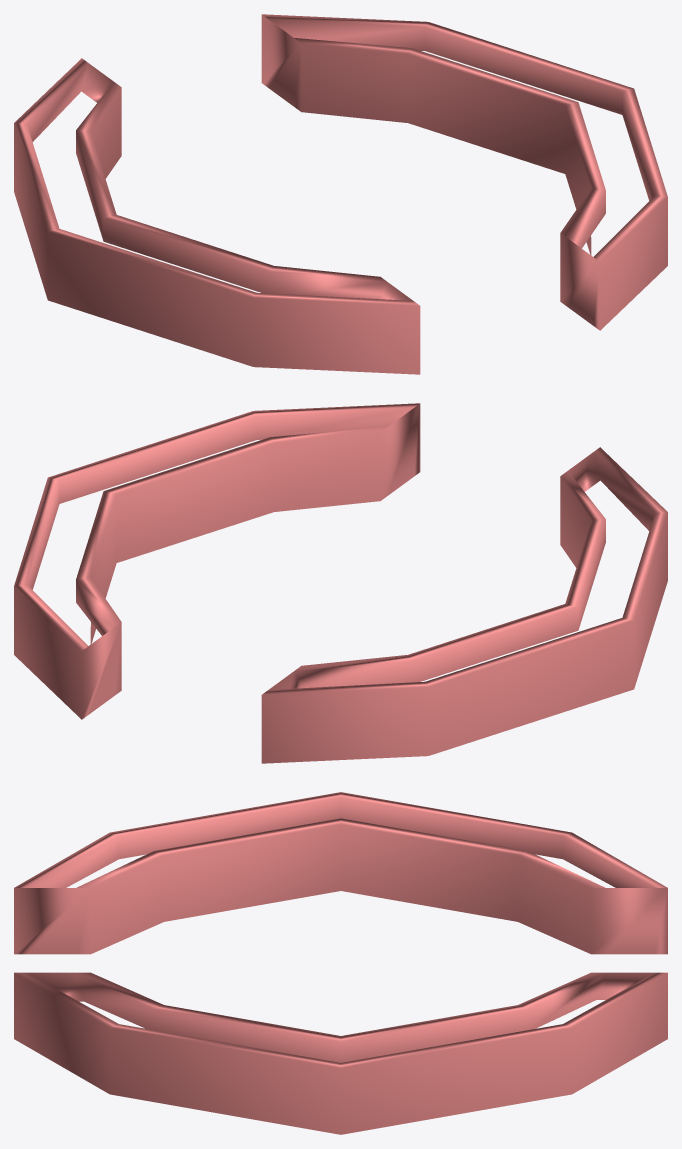
Rendered from entity430302.gltf.
3 views of the same model, one above another, from view 1: azimuth 30°, elevation 25°; view 2: azimuth 150°, elevation 25°; view 3: azimuth 270°, elevation 25° (orthographic). The views are drawn at different scales.
Parts seen in each view (by area): view 1: node_polySurface61; view 2: node_polySurface61; view 3: node_polySurface61.
Part boxes in pixels (bbox=[...]): node_polySurface61: bbox=[14, 14, 667, 374]; node_polySurface61: bbox=[14, 403, 667, 763]; node_polySurface61: bbox=[14, 792, 667, 1134].
Bounding box in the file's own units: 7.45 × 0.8351 × 7.45.
